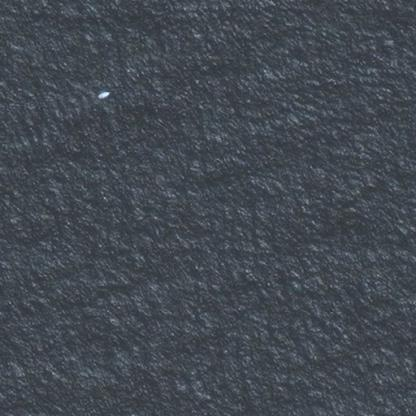ship: (91, 81, 114, 106)
